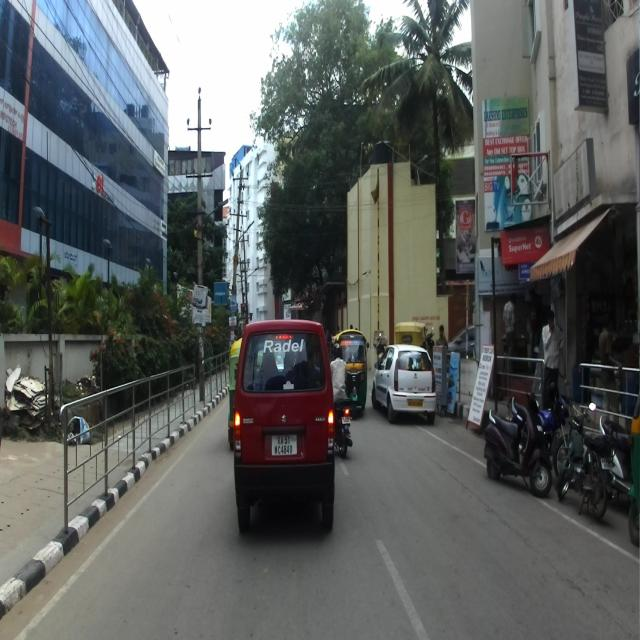autorickshaw: (332, 326, 369, 414)
car: (236, 318, 335, 532), (371, 341, 437, 424)
motorcycle: (553, 378, 616, 528), (532, 380, 576, 492), (332, 386, 354, 460)
scooter: (484, 394, 553, 506), (599, 412, 637, 502)
